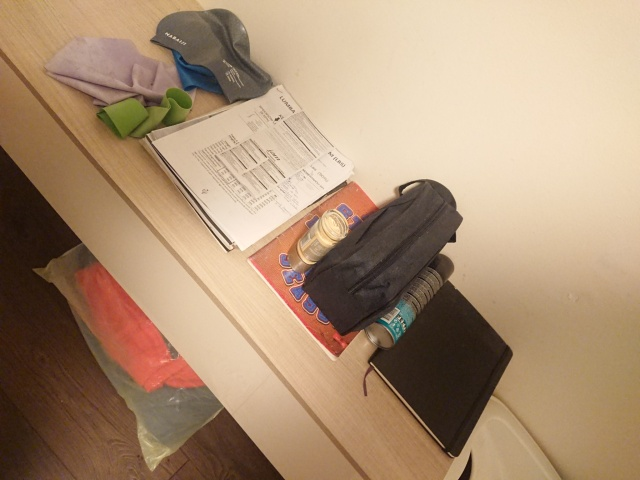Kotanyi Garlic Granules 70g: (285, 207, 351, 277)
